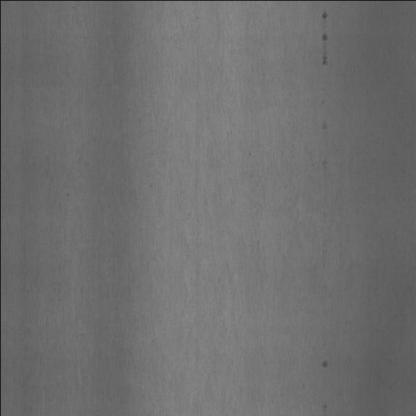oil_spot: (320, 7, 330, 68), (318, 112, 327, 175), (320, 352, 328, 375)
